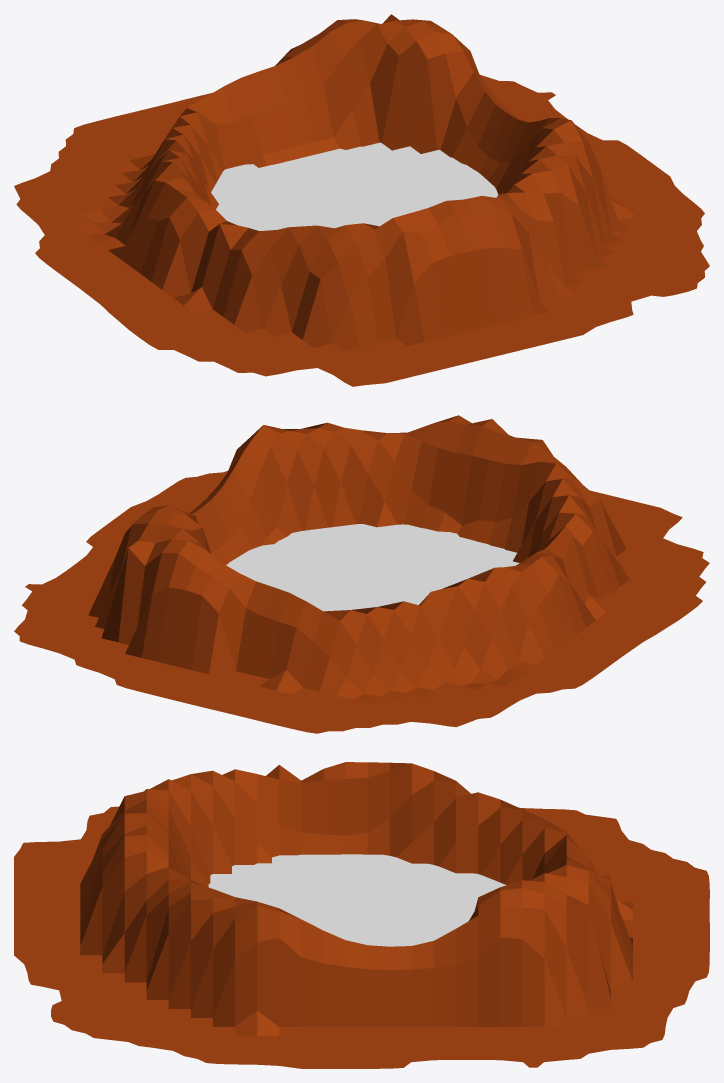
Rendered from BolhaLava.fbx.
3 views of the same model, one above another, from view 1: azimuth 30°, elevation 25°; view 2: azimuth 150°, elevation 25°; view 3: azimuth 270°, elevation 25° (orthographic). The views are drawn at different scales.
Parts seen in each view (by area): view 1: Plane, Plane.001; view 2: Plane, Plane.001; view 3: Plane, Plane.001.
Part boxes in pixels (x1=…): Plane: x1=14, y1=14, x2=709, y2=386; Plane.001: x1=211, y1=142, x2=498, y2=230; Plane: x1=14, y1=415, x2=709, y2=733; Plane.001: x1=226, y1=524, x2=519, y2=611; Plane: x1=14, y1=762, x2=709, y2=1068; Plane.001: x1=208, y1=854, x2=506, y2=946.
Size of the model in its own units: 655 by 127 by 687.
